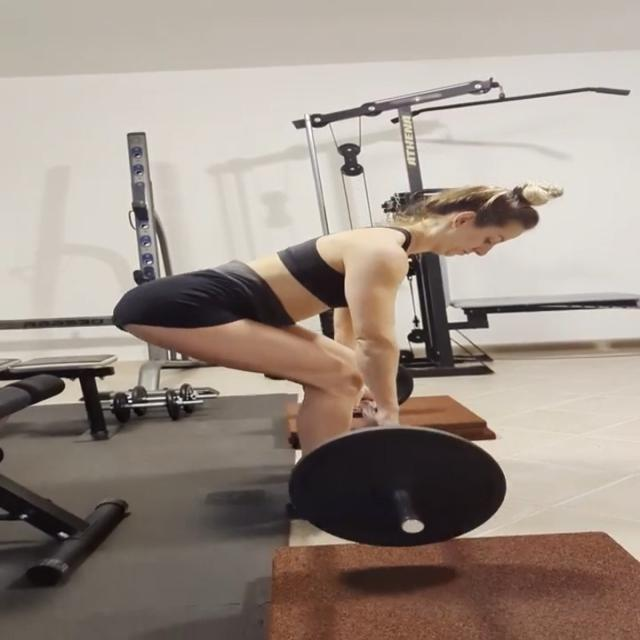barbell: (282, 423, 511, 552)
